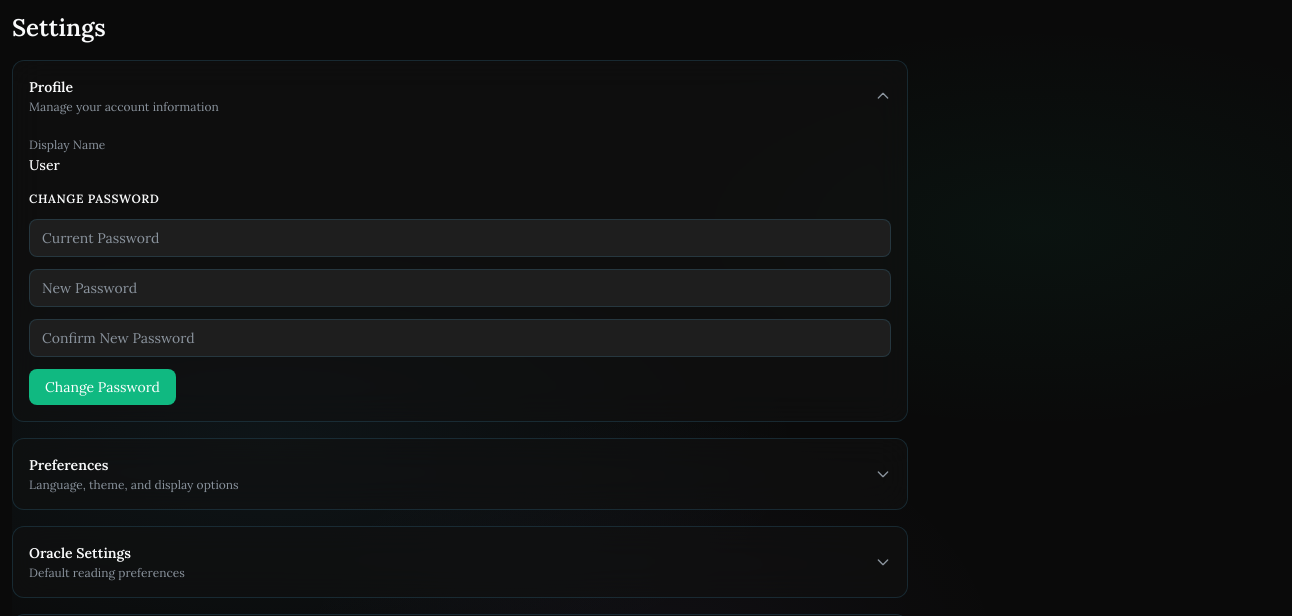
Test: Settings Page › oracle settings shows reading type dropdown
Expand Oracle Settings
Click the heading "Oracle Settings": point(80, 553) left=29, top=544, right=131, bottom=562
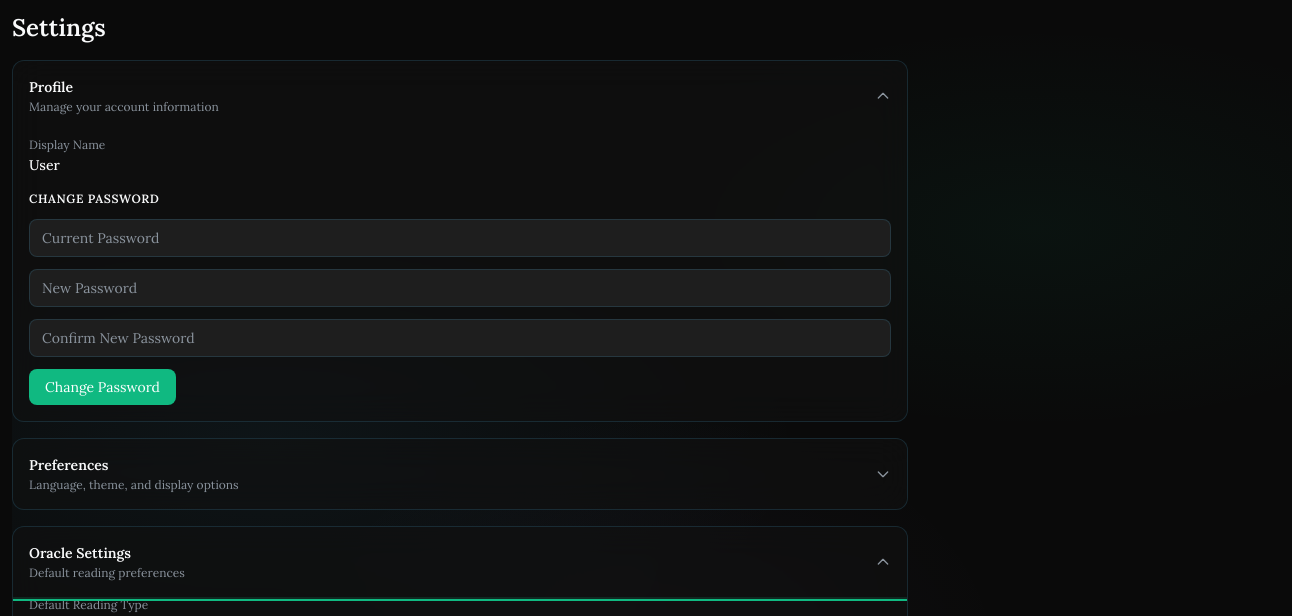
Expected: the text "Default Reading Type" is shown, left=29, top=597, right=148, bottom=612
